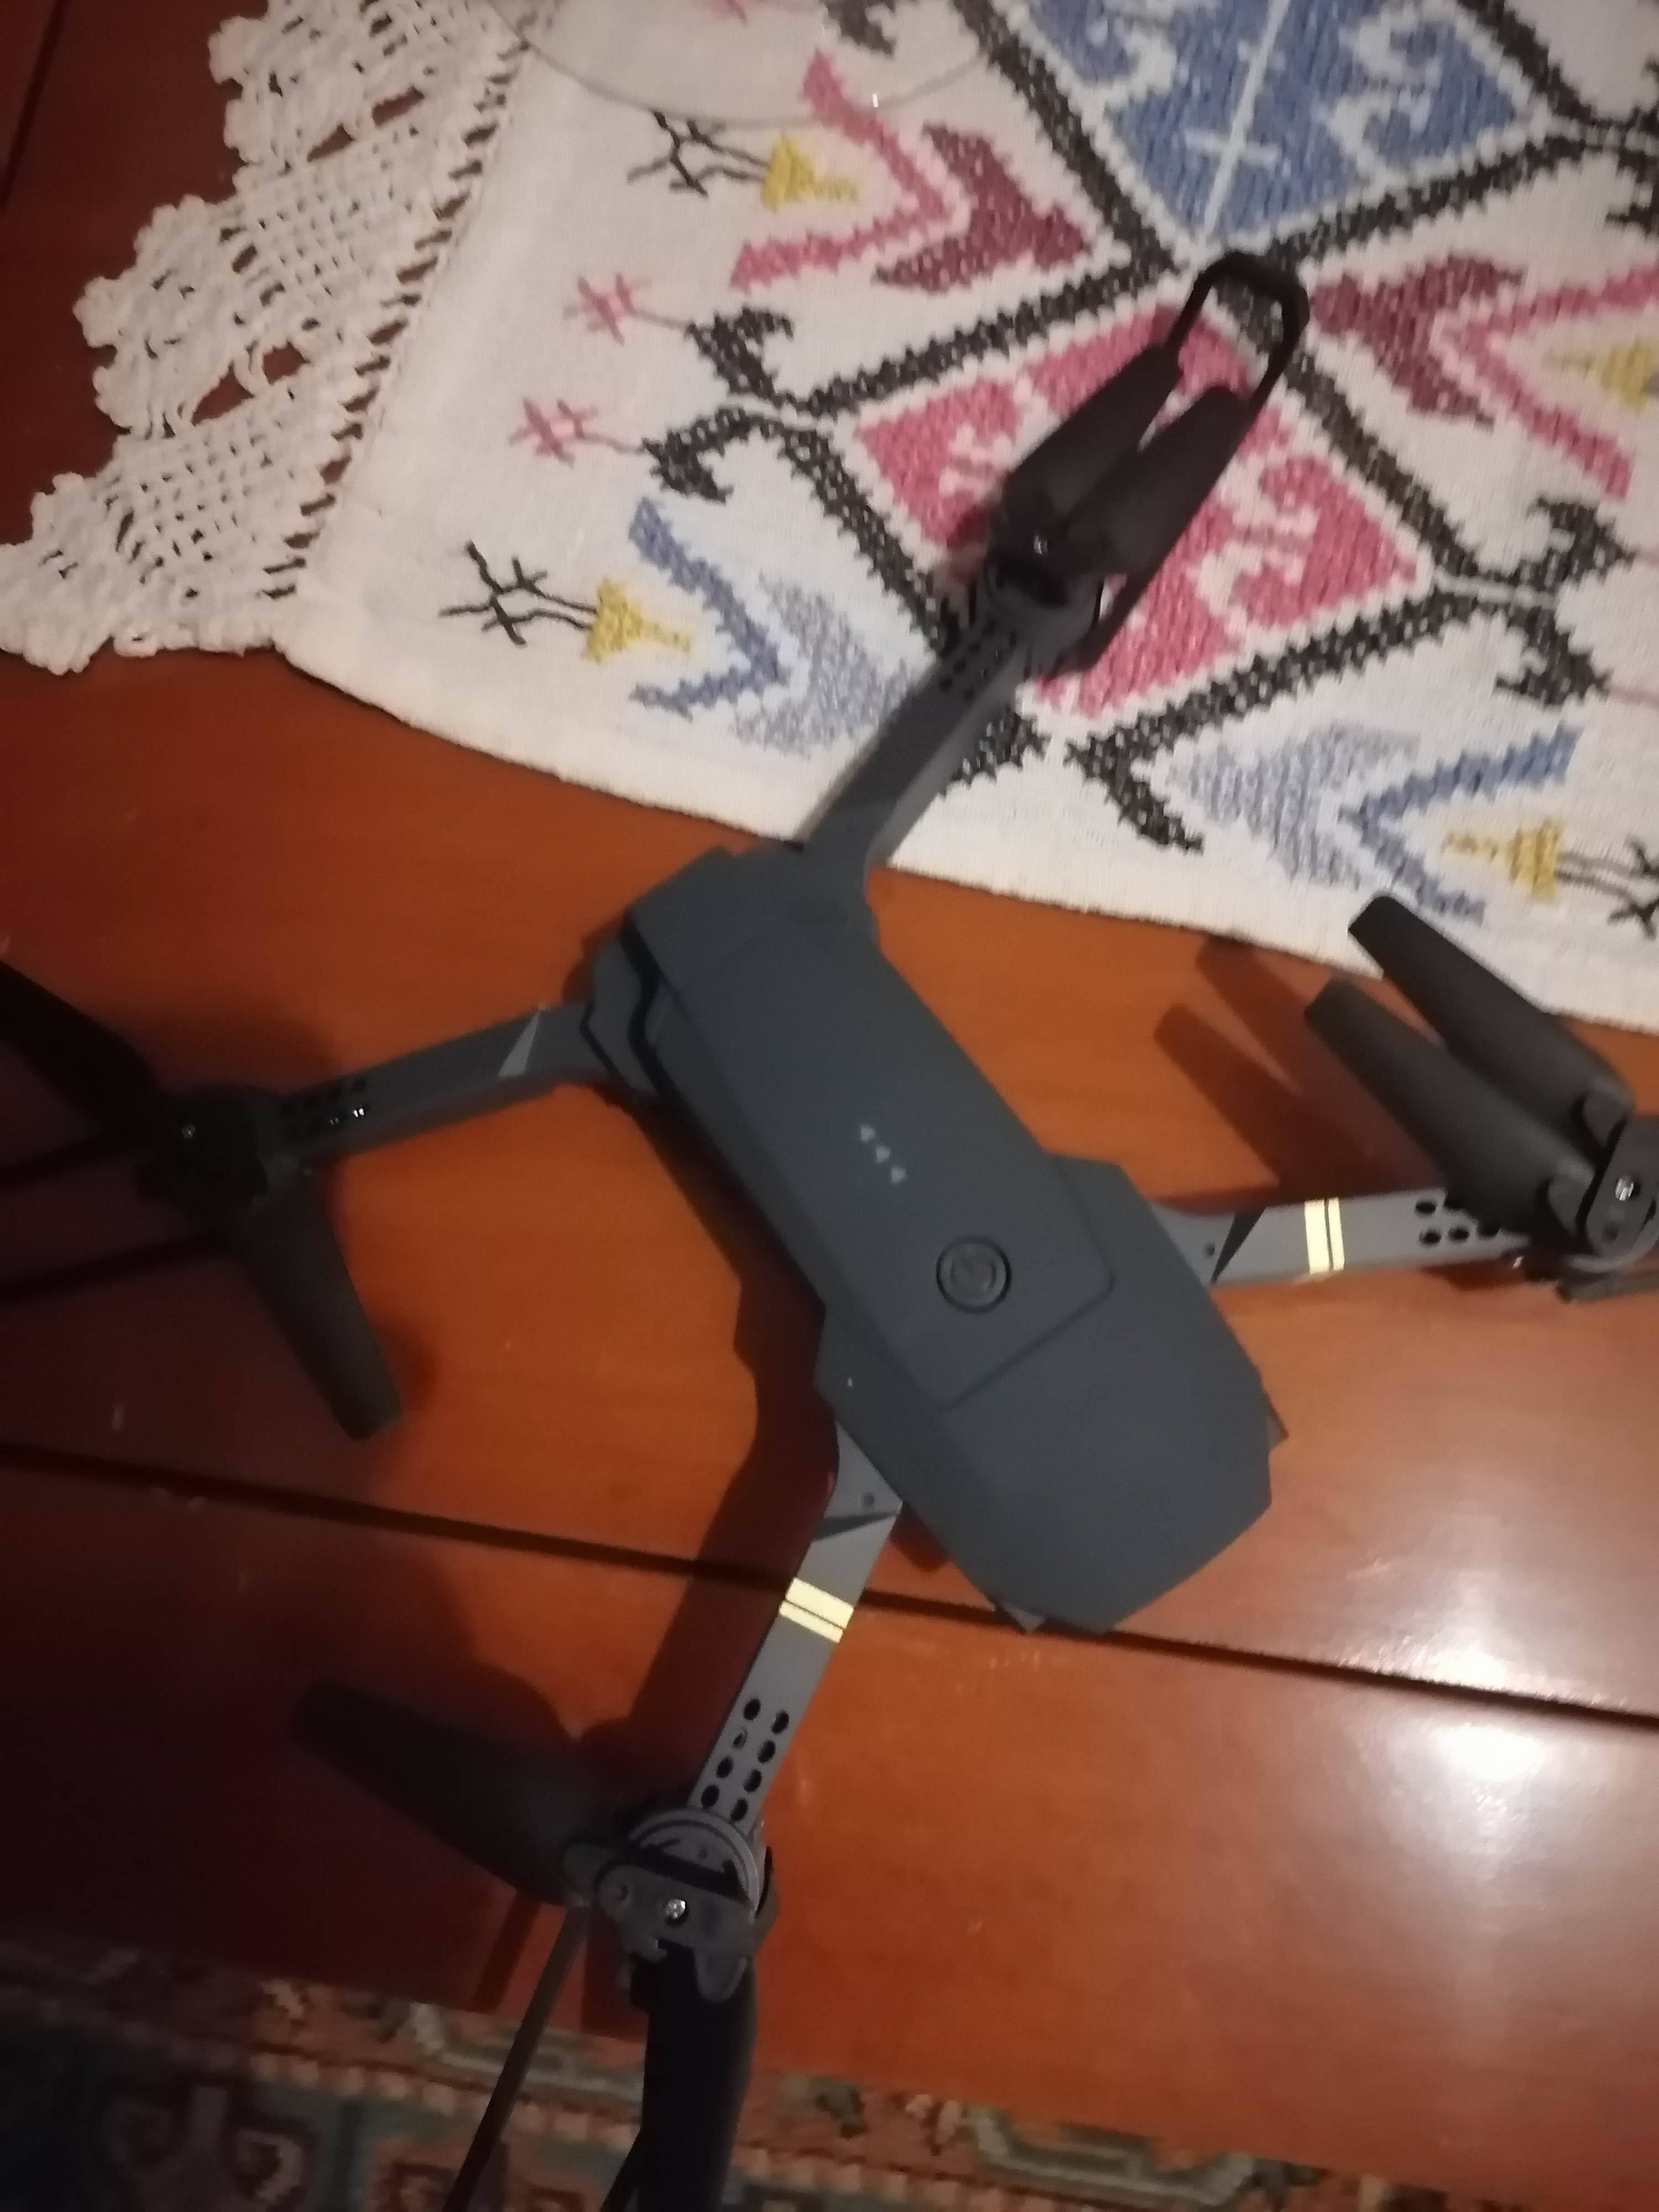drone: (75, 751, 1626, 2064)
